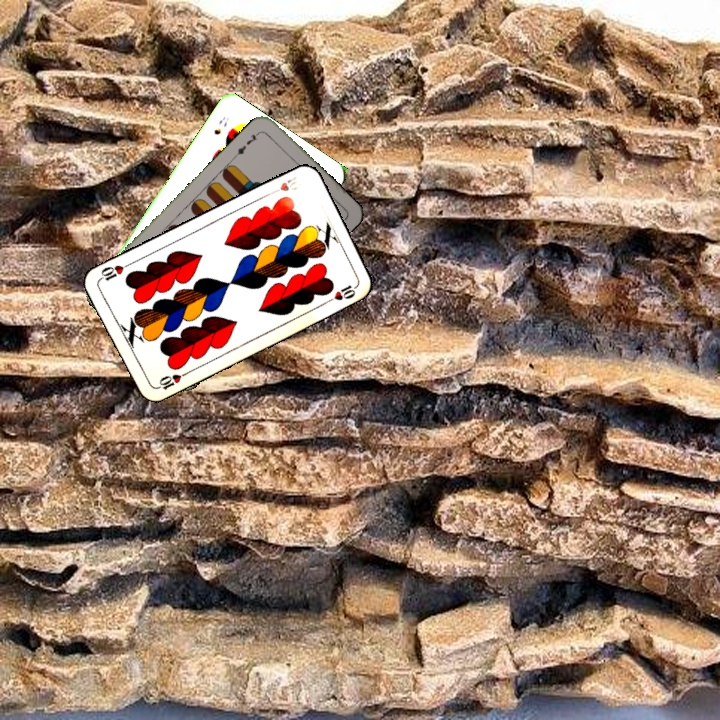E7: (231, 127, 263, 159)
H10: (152, 368, 190, 393), (266, 172, 302, 197)
S8: (210, 113, 232, 137)
